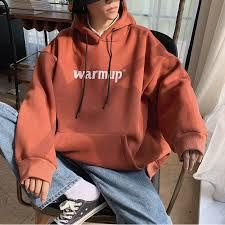sweater: (17, 24, 203, 182)
